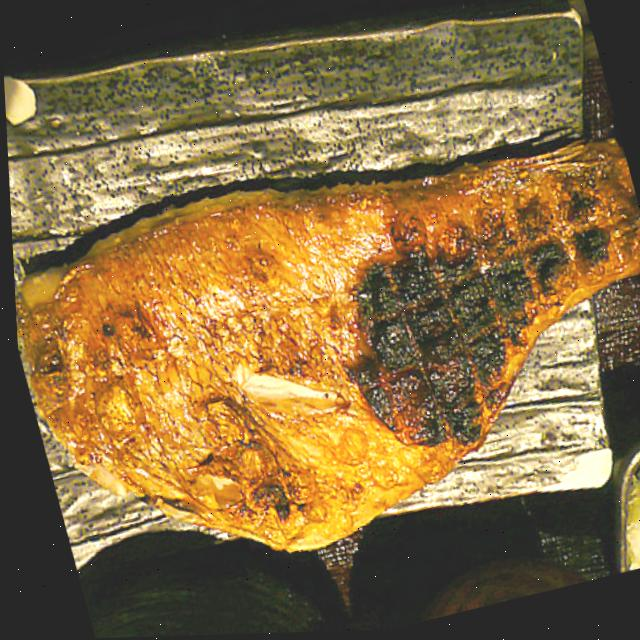熟制海鲜: (4, 72, 640, 623)
